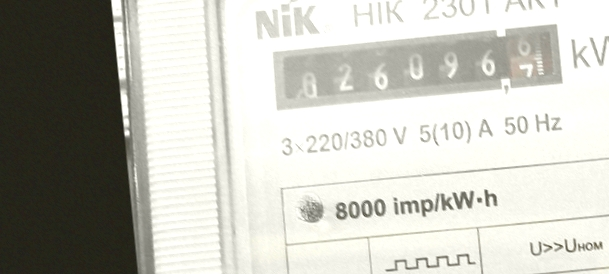0: (403, 49, 426, 86), (296, 67, 319, 101)
2: (331, 60, 356, 97)
6: (368, 58, 391, 95), (475, 45, 497, 80), (511, 31, 533, 60)
7: (515, 60, 535, 83)
9: (439, 48, 461, 82)
screen: (259, 14, 571, 124)
